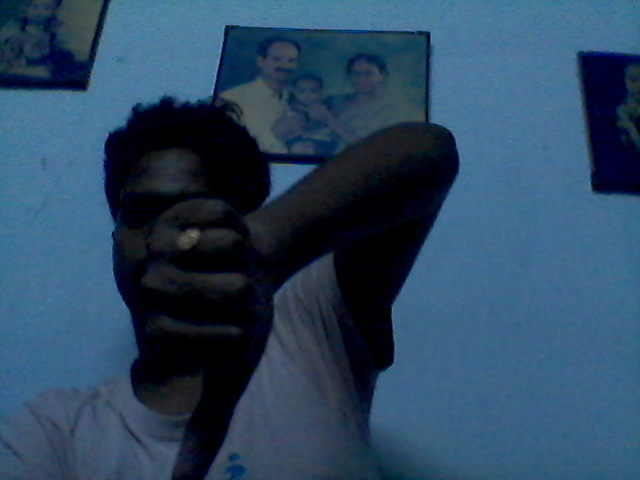Please: (134, 194, 278, 480)
